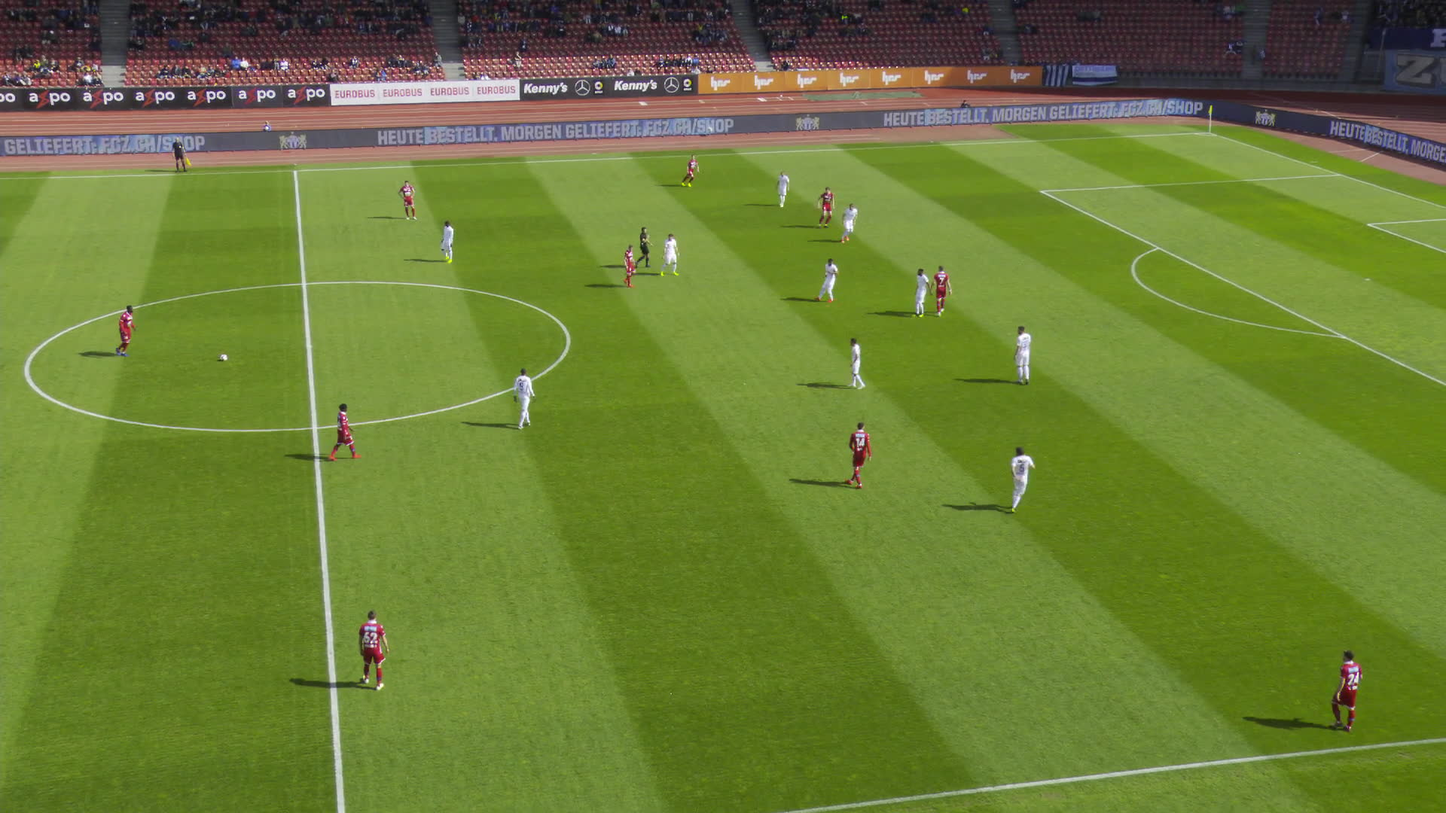ball: (219, 353, 227, 361)
player: (1315, 647, 1372, 737), (349, 607, 392, 695), (840, 416, 872, 491), (1005, 442, 1036, 514), (328, 400, 363, 461), (510, 361, 539, 431), (111, 300, 139, 362), (1010, 324, 1036, 387), (844, 330, 868, 392), (931, 263, 955, 317), (813, 257, 839, 306), (837, 199, 861, 245), (659, 232, 682, 278), (398, 178, 421, 221), (912, 267, 931, 319), (437, 218, 456, 266), (621, 241, 639, 288), (816, 185, 836, 227), (772, 168, 792, 208), (681, 152, 700, 191)
referee: (632, 220, 655, 269), (168, 136, 193, 175)
